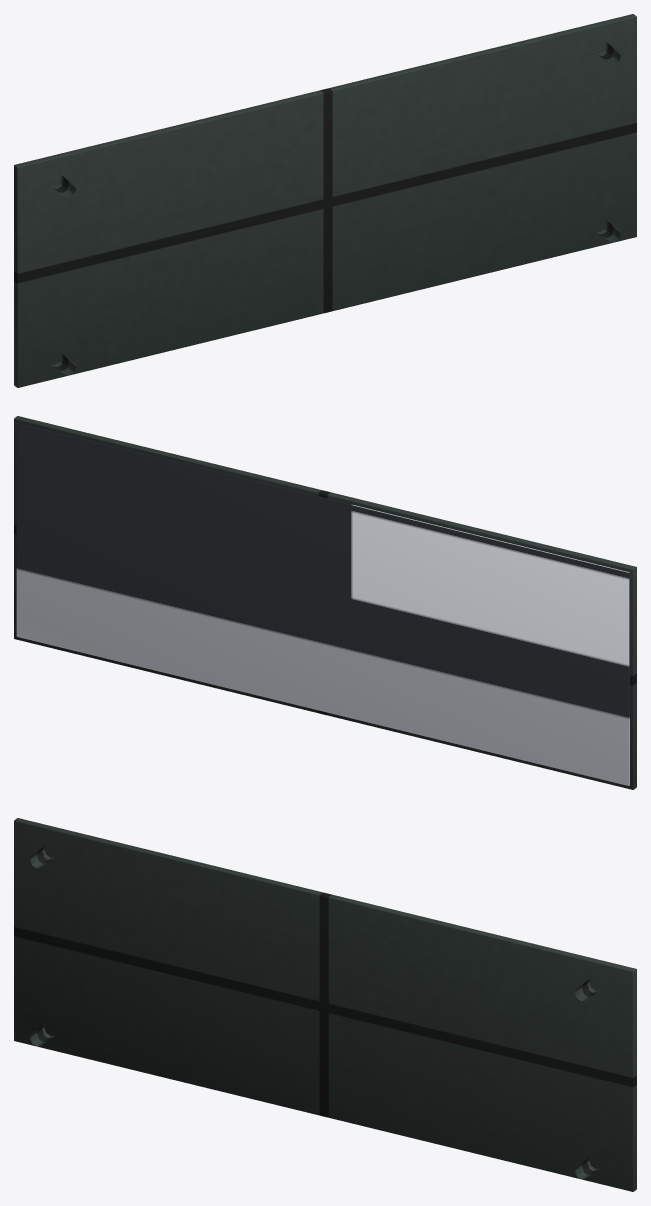
The model's file is WK_SIGN_SECTOR_A_01.glb.
3 views of the same model, one above another, from view 1: azimuth 30°, elevation 25°; view 2: azimuth 150°, elevation 25°; view 3: azimuth 330°, elevation 25° (orthographic).
Visible parts, largest first — view 1: WK_SIGN_SECTOR_A_01; view 2: WK_SIGN_SECTOR_A_01; view 3: WK_SIGN_SECTOR_A_01.
Part boxes in pixels (x1,y1,x2,y2): WK_SIGN_SECTOR_A_01: (14, 14, 636, 387); WK_SIGN_SECTOR_A_01: (14, 416, 636, 789); WK_SIGN_SECTOR_A_01: (14, 818, 636, 1191).
Size of the model in its own units: 1.82 by 0.62 by 0.0985.
Materials: 2 (2 with a texture image).
